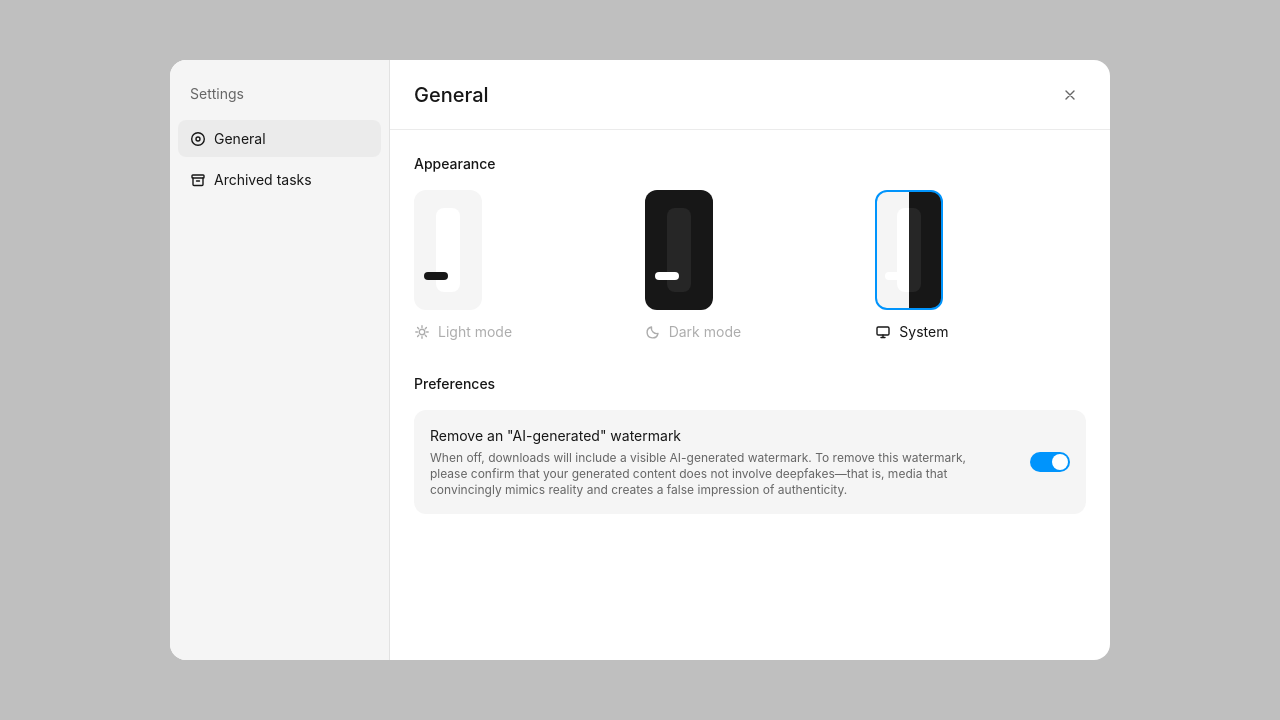
Scenario: SettingsDialog sections (STORY_021; settings-archived-tasks@1440; STORY_026 removed Account and Usage) › the nav is General and Archived tasks; Archived tasks has its search and the project filter (real since STORY_031)
Click the button "Archived tasks": (280, 180) [178,161,381,198]
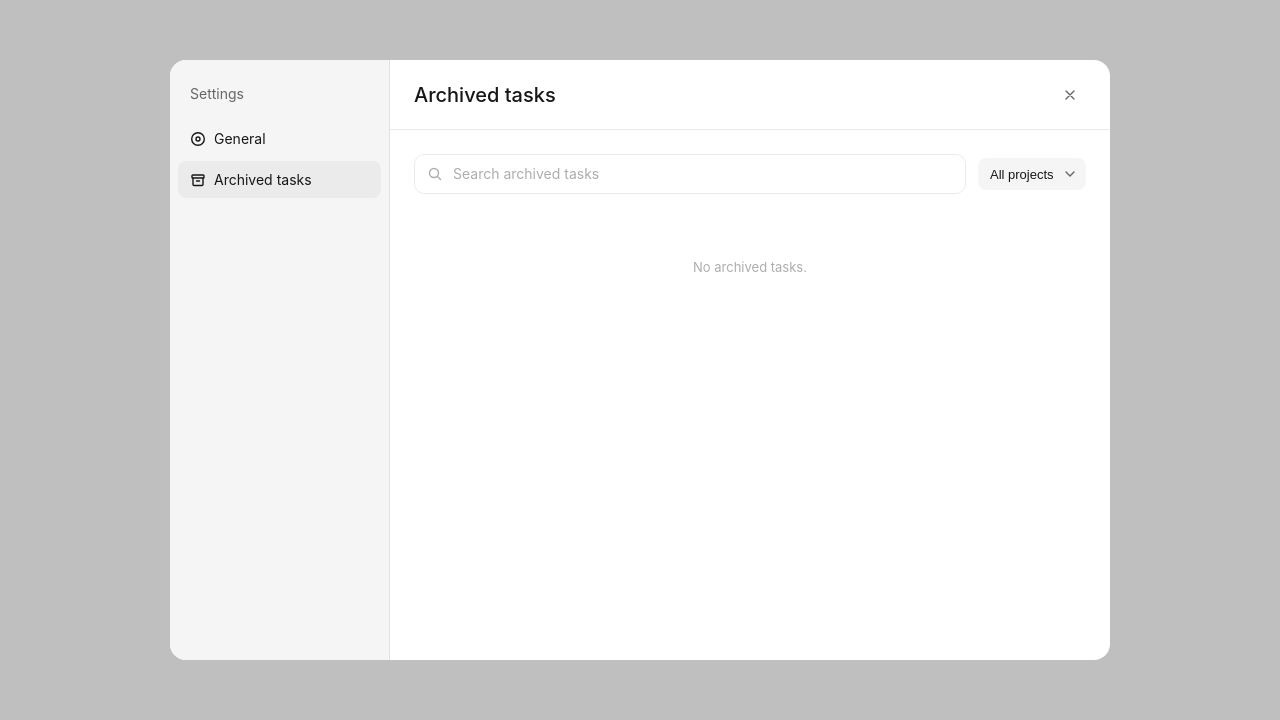
expect the field with placeholder "Search archived tasks" is shown: met, box [451,163,953,185]
expect the dropdown named "Project filter" shows "All projects": met, box [978,158,1086,190]
expect the text "No archived tasks." is shown: met, box [693,259,807,275]
Click the button "General": (280, 138) [178,120,381,157]
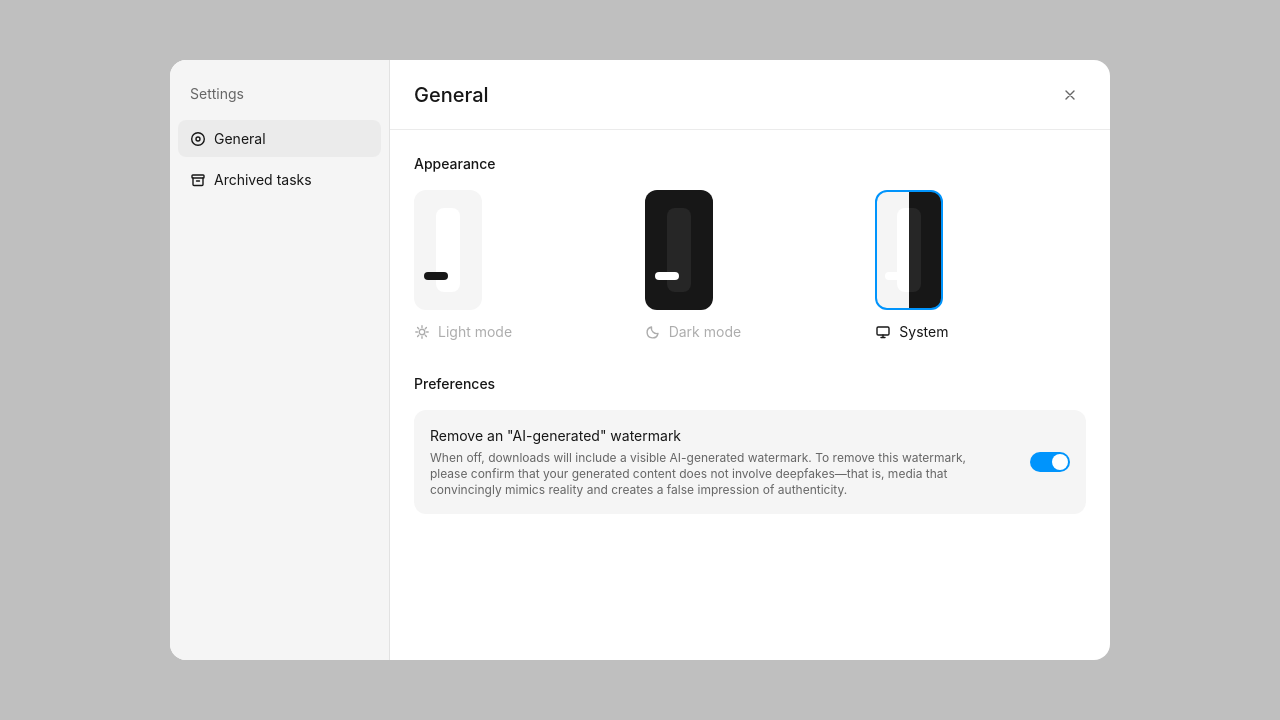
expect the element named "Appearance" is shown: met, box [414,190,1086,342]
